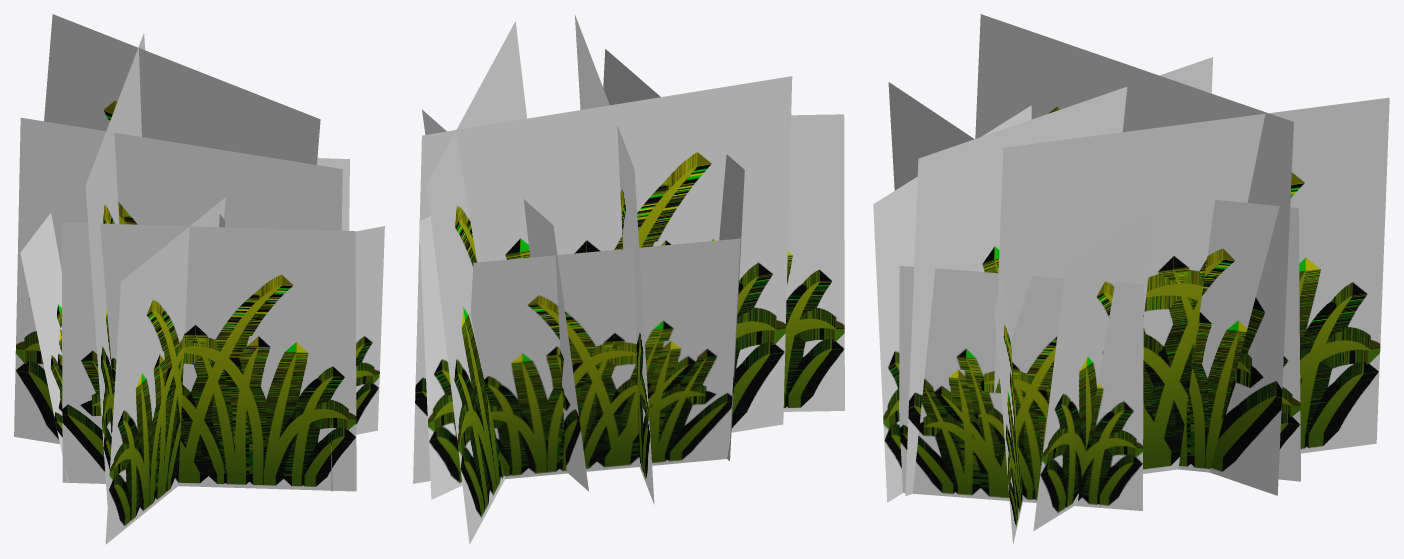
File: low_grass_05.gltf
3 renders of one model, left to right at view 1: azimuth 30°, elevation 25°; view 2: azimuth 150°, elevation 25°; view 3: azimuth 270°, elevation 25°, orthographic. The views are drawn at different scales.
Visible parts, largest first — view 1: default; view 2: default; view 3: default.
Boxes of the visible parts, left/top/right/bottom form: default: left=14, top=14, right=384, bottom=544; default: left=413, top=15, right=844, bottom=544; default: left=873, top=14, right=1389, bottom=544.
Bounding box in the file's own units: 0.8227 × 0.8109 × 1.04.
Materials: 1 (1 with a texture image).
